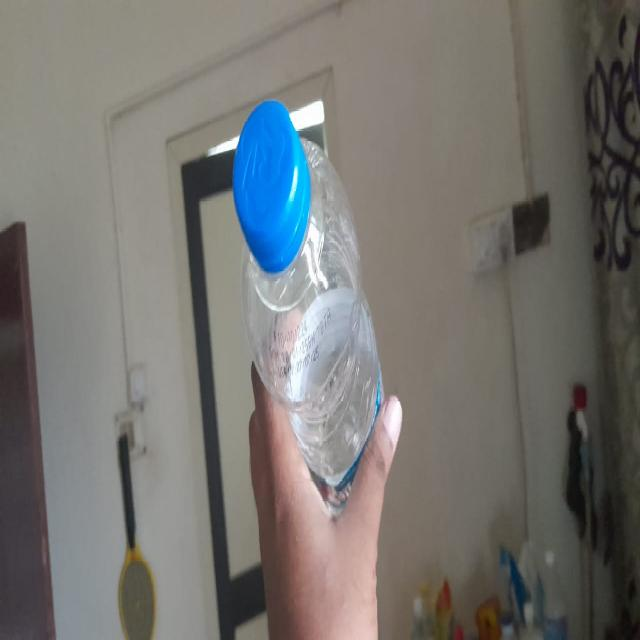Plastic - Recyclable: (230, 95, 384, 518)
